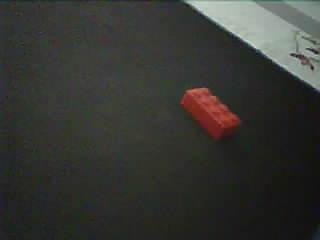lego: (180, 86, 242, 139)
